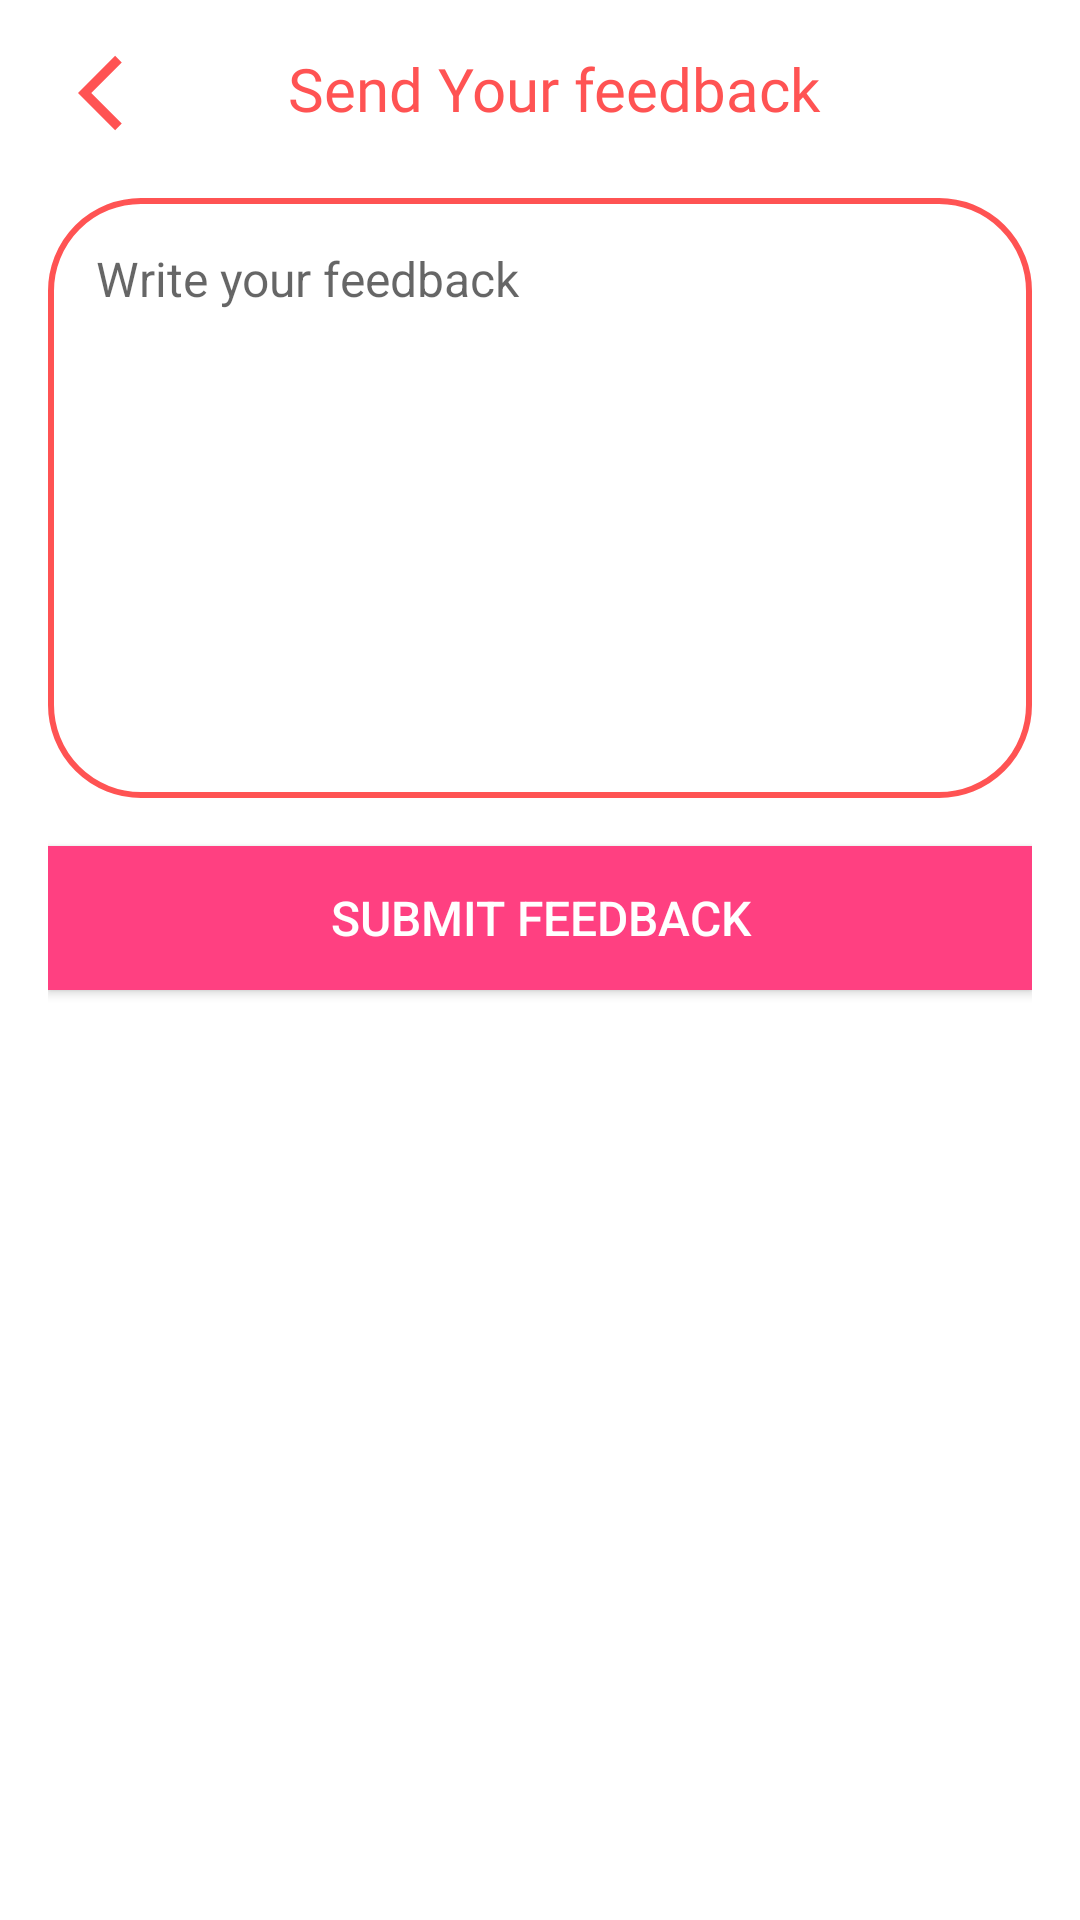

Named icons in this screenshot (1080w x 1920h) and their bounding boxes, (x1, y1, x2, y2):
back button: (78, 56, 122, 130)
